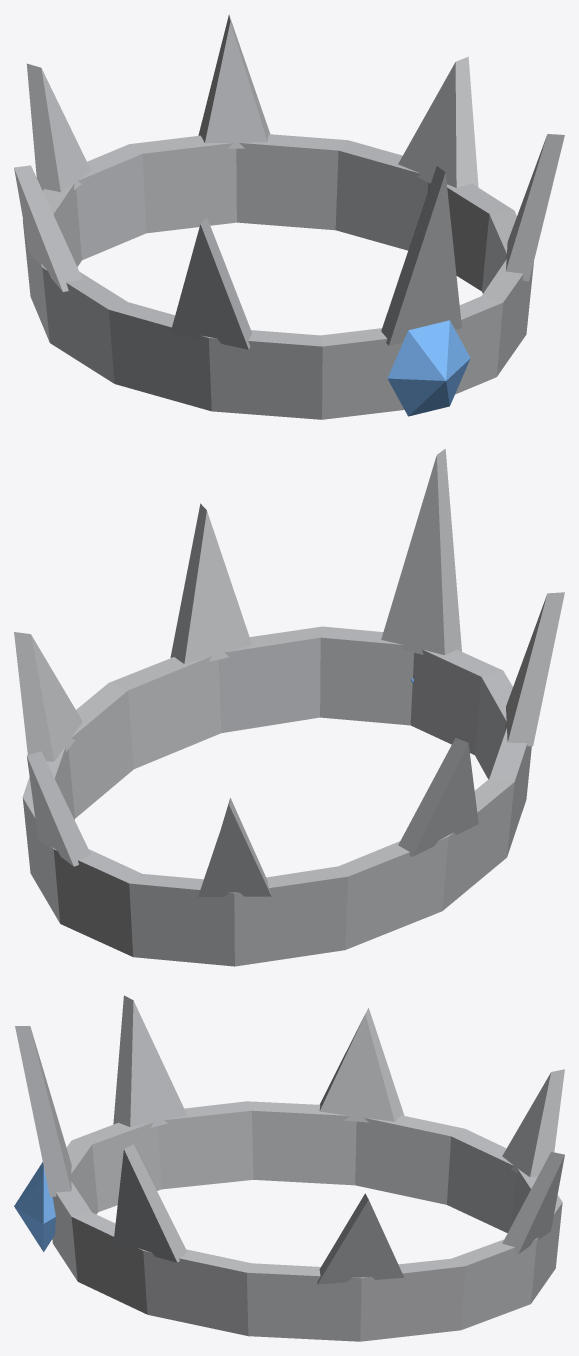
File: couronne_givre.glb
The picture shows the model from 3 angles, top to bottom: view 1: azimuth 30°, elevation 25°; view 2: azimuth 150°, elevation 25°; view 3: azimuth 270°, elevation 25°; orthographic projection. The views are drawn at different scales.
Visible parts, largest first — view 1: couronne_givre; view 2: couronne_givre; view 3: couronne_givre.
Boxes of the visible parts, x1,y1,x2,y2 form: couronne_givre: (14, 14, 564, 419); couronne_givre: (14, 448, 564, 966); couronne_givre: (14, 995, 564, 1341).
Bounding box in the file's own units: 0.1987 × 0.117 × 0.241.
